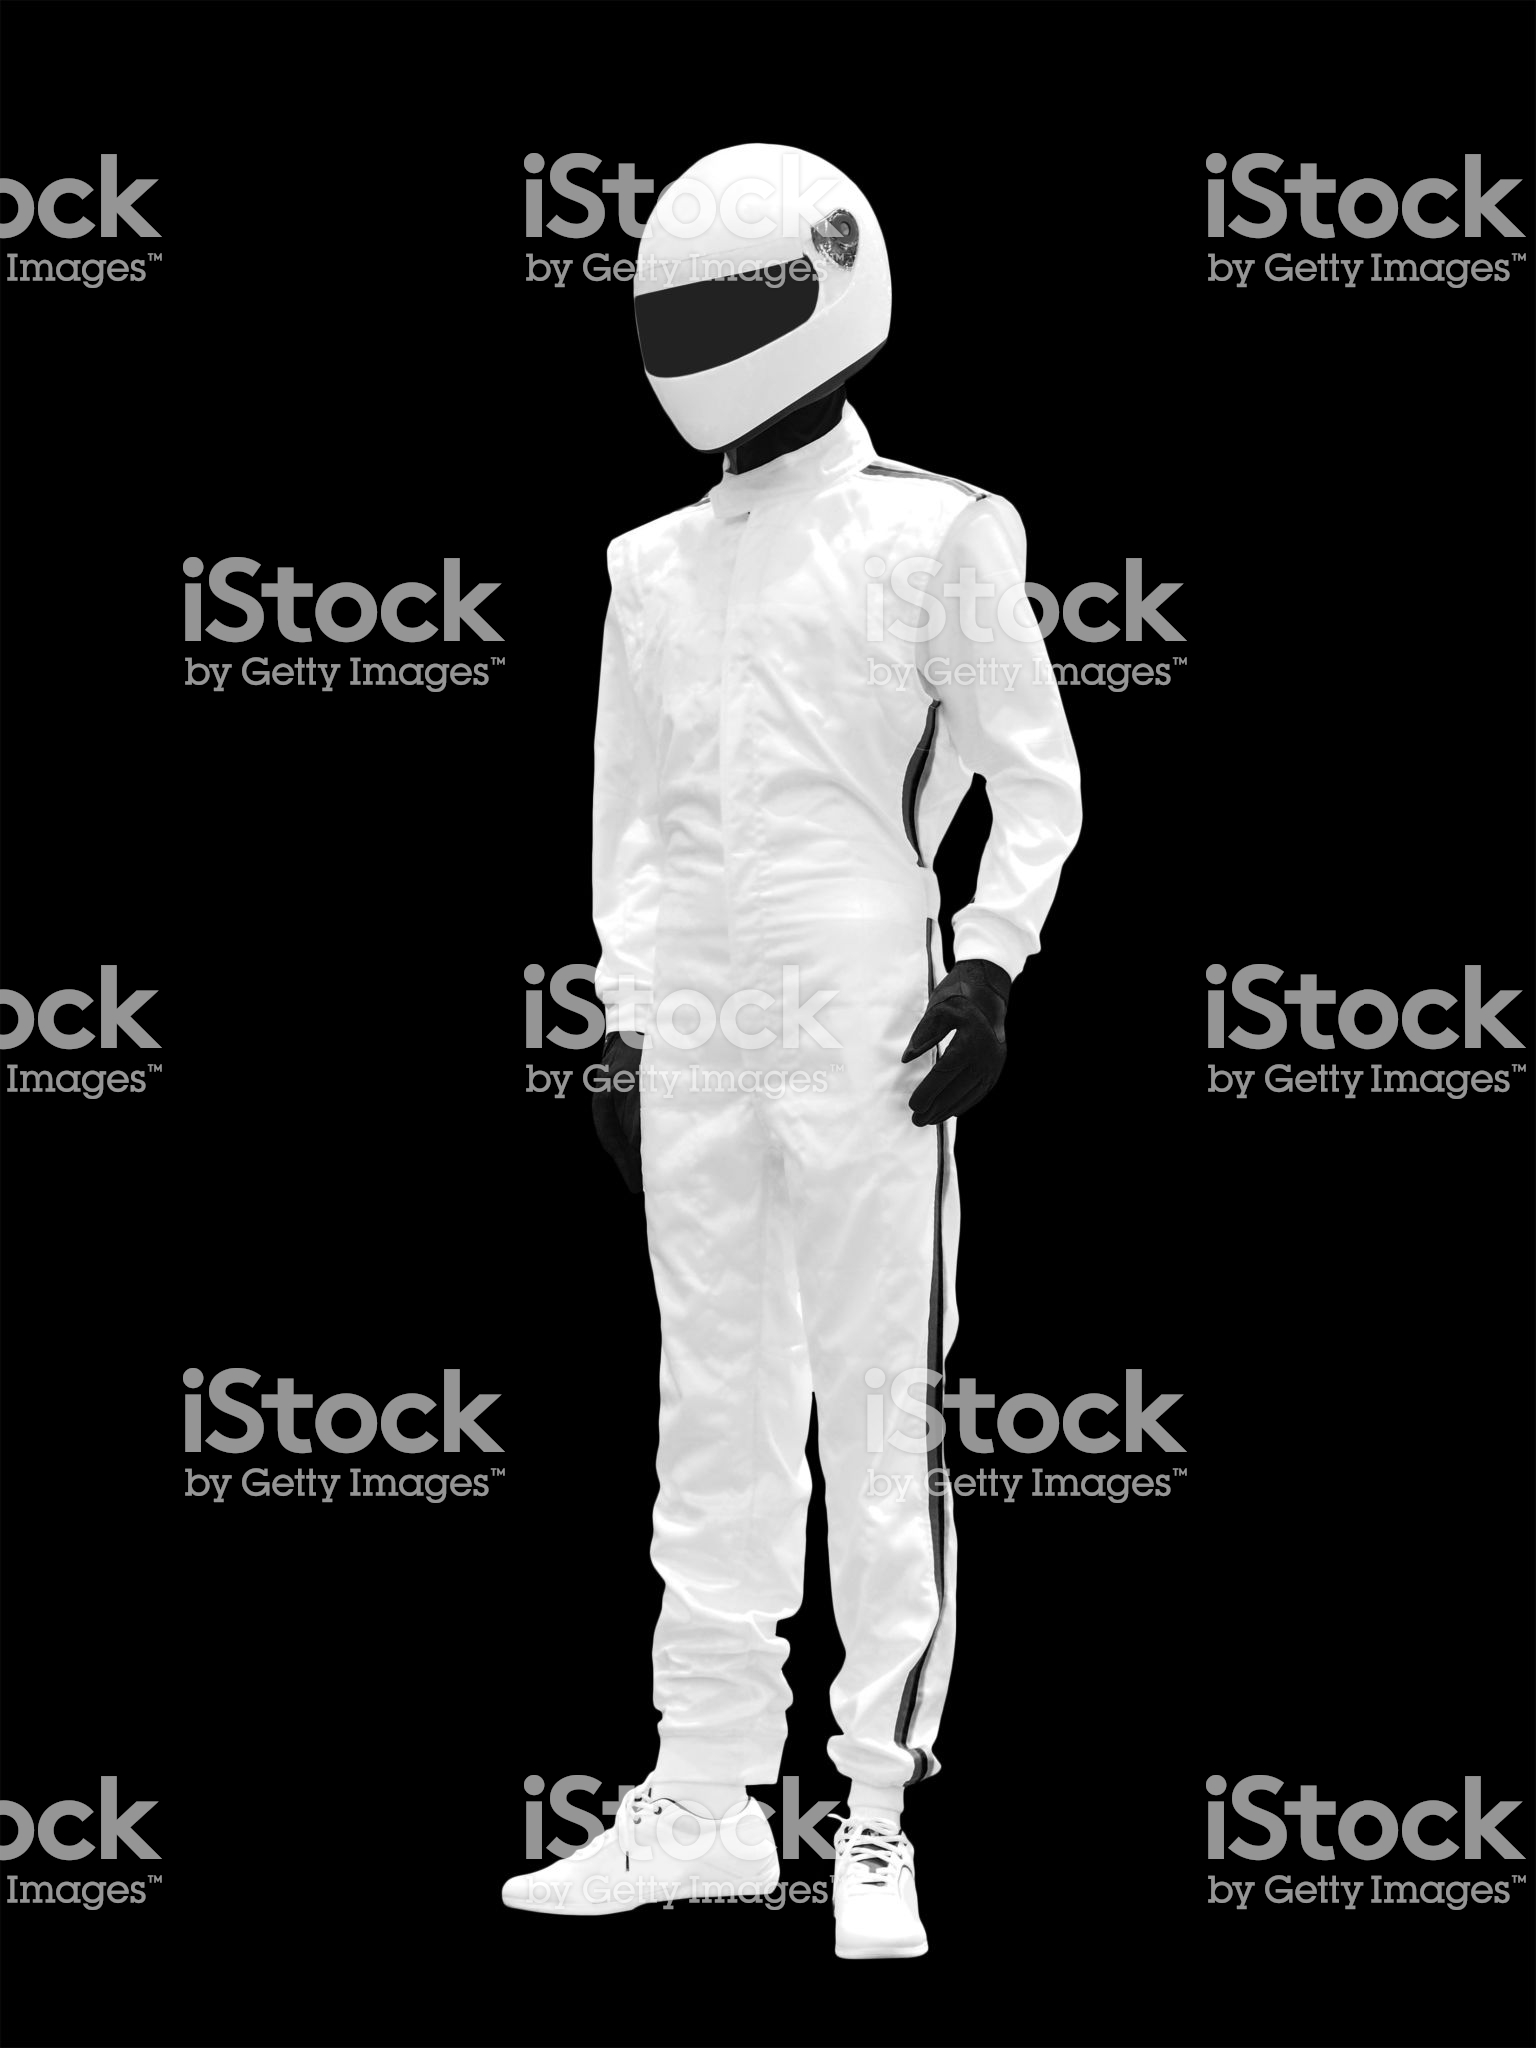helmet: (620, 127, 929, 443)
